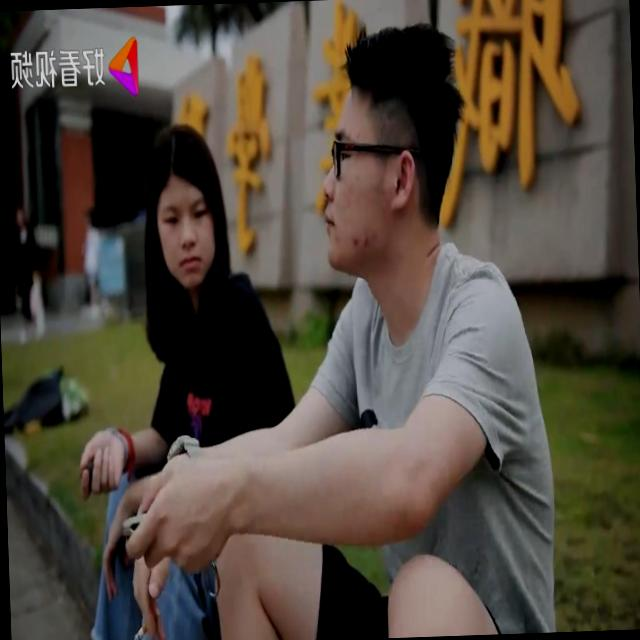smoke: (129, 591, 165, 640)
